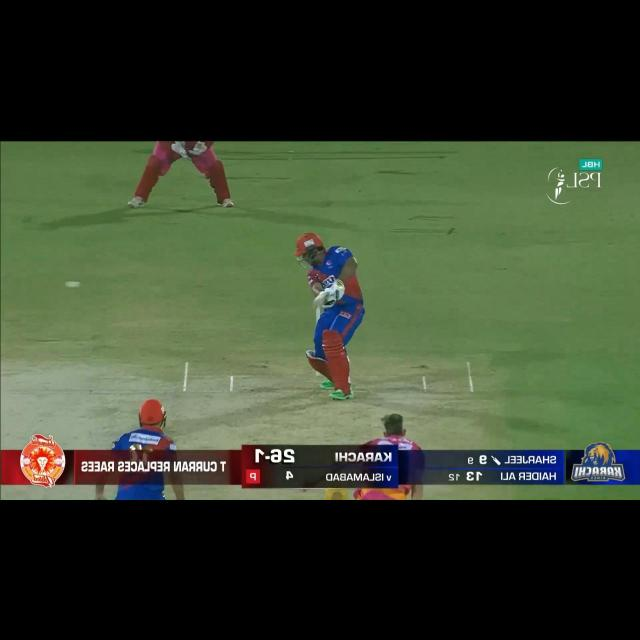bat: (309, 291, 330, 312)
toe: (308, 294, 322, 310)
